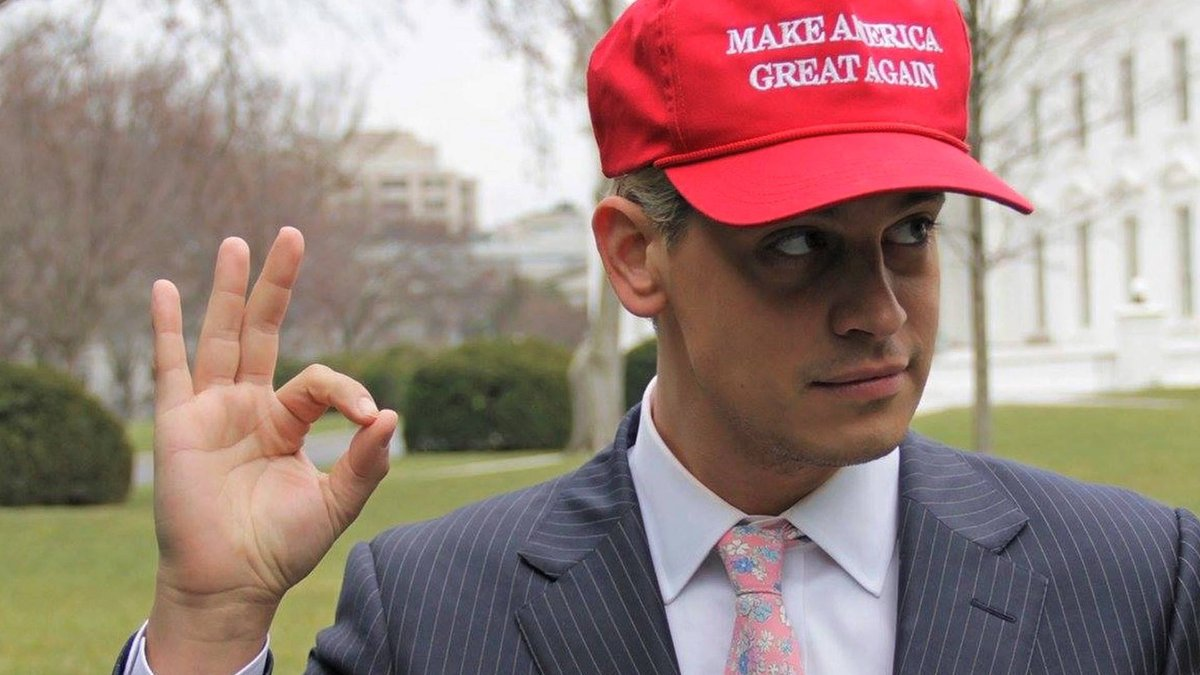oksign: (149, 226, 399, 588)
